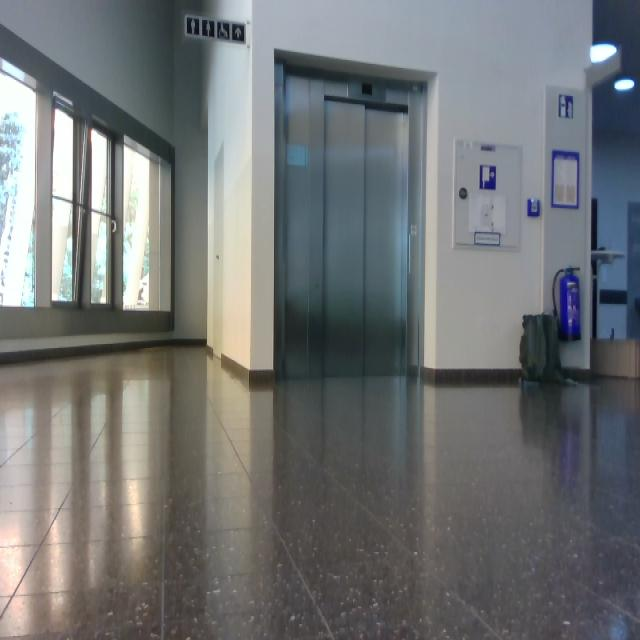door: (276, 64, 427, 380)
fire extinguisher: (553, 267, 581, 343)
light bulb: (590, 42, 618, 64), (614, 77, 635, 92)
tiled floor: (1, 343, 639, 639)
window: (1, 52, 175, 333), (1, 60, 38, 308)
